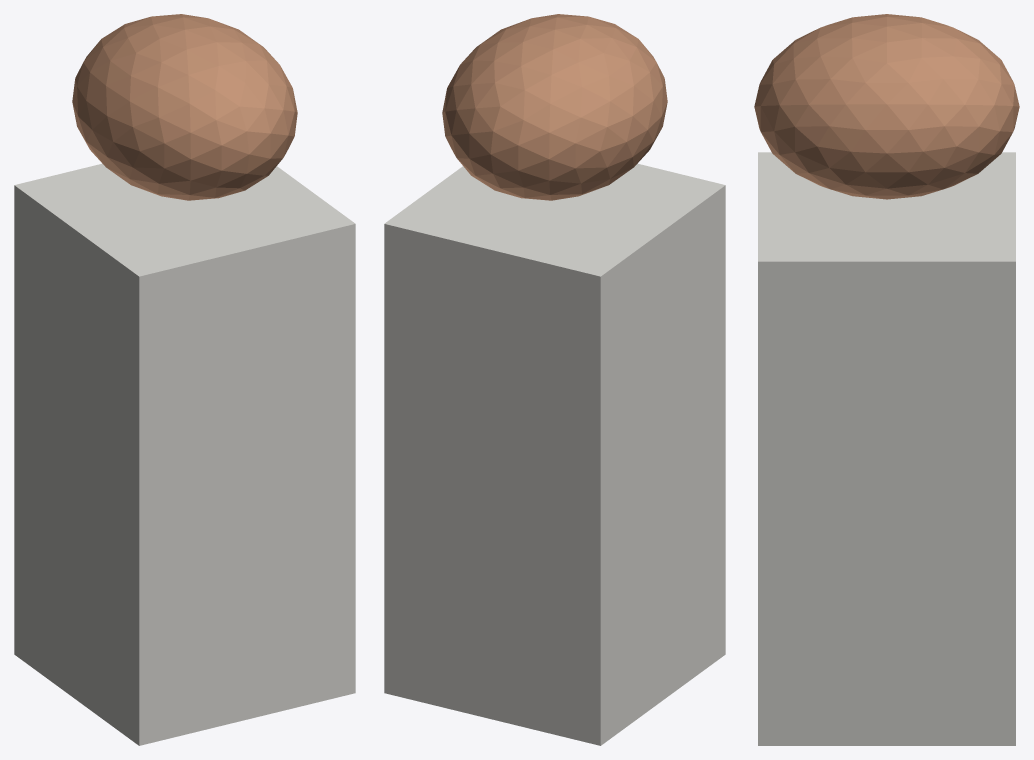
File: pedestal_03.glb
3 renders of one model, left to right at view 1: azimuth 30°, elevation 25°; view 2: azimuth 150°, elevation 25°; view 3: azimuth 270°, elevation 25°, orthographic. The views are drawn at different scales.
Visible parts, largest first — view 1: pedestal, world; view 2: pedestal, world; view 3: pedestal, world.
Boxes of the visible parts, x1=… form: pedestal: x1=14, y1=163, x2=355, y2=745; world: x1=72, y1=14, x2=297, y2=200; pedestal: x1=384, y1=163, x2=725, y2=745; world: x1=442, y1=14, x2=667, y2=200; pedestal: x1=758, y1=152, x2=1015, y2=745; world: x1=754, y1=14, x2=1019, y2=199.
Bounding box in the file's own units: 0.42 × 1.19 × 0.432.
